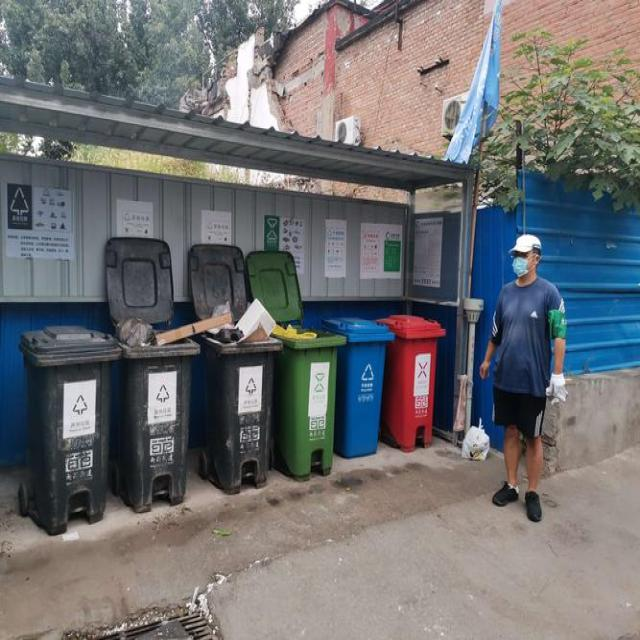garbage: (458, 416, 489, 460)
garbage_bin: (16, 323, 121, 535), (324, 316, 394, 456), (375, 315, 444, 450)
overflow: (116, 315, 200, 511), (199, 297, 282, 493), (270, 324, 346, 480)
